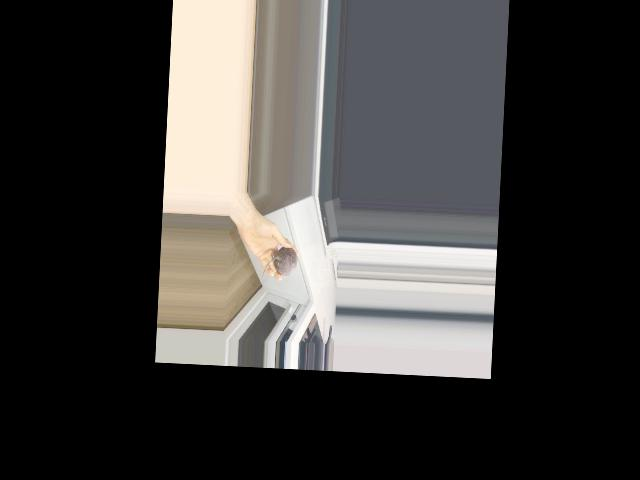beet: (261, 246, 298, 279)
